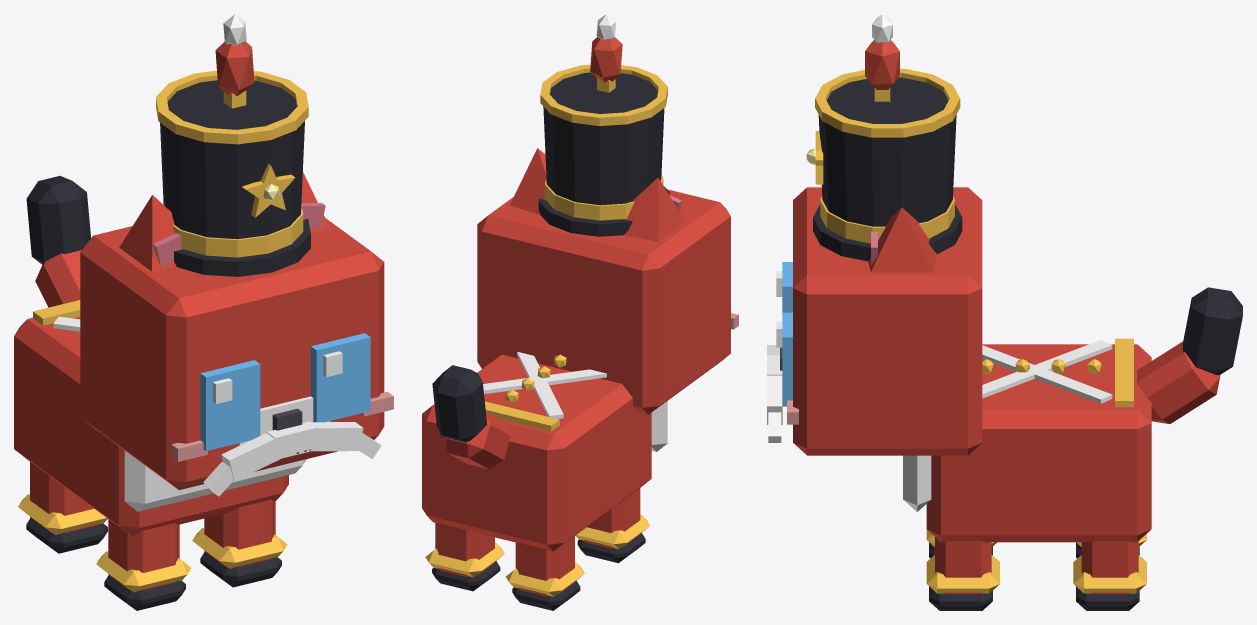
File: CatCafe_Cat_Nutcracker.glb
The picture shows the model from 3 angles, left to right: view 1: azimuth 30°, elevation 25°; view 2: azimuth 150°, elevation 25°; view 3: azimuth 270°, elevation 25°; orthographic projection. The views are drawn at different scales.
Visible parts, largest first — view 1: CatCafe_Cat_Nutcracker_Head, CatCafe_Cat_Nutcracker_Prop, CatCafe_Cat_Nutcracker_Body, CatCafe_Cat_Nutcracker_Tail, CatCafe_Cat_Nutcracker_LegF2, CatCafe_Cat_Nutcracker_LegF1, CatCafe_Cat_Nutcracker_Eye2, CatCafe_Cat_Nutcracker_Eye1, CatCafe_Cat_Nutcracker_LegB2, CatCafe_Cat_Nutcracker_EarR, CatCafe_Cat_Nutcracker_Badge_Glow, CatCafe_Cat_Nutcracker_Prop2 (+1 smaller); view 2: CatCafe_Cat_Nutcracker_Head, CatCafe_Cat_Nutcracker_Body, CatCafe_Cat_Nutcracker_Prop, CatCafe_Cat_Nutcracker_Tail, CatCafe_Cat_Nutcracker_LegB2, CatCafe_Cat_Nutcracker_LegB1, CatCafe_Cat_Nutcracker_Prop2, CatCafe_Cat_Nutcracker_LegF2, CatCafe_Cat_Nutcracker_EarR, CatCafe_Cat_Nutcracker_EarL; view 3: CatCafe_Cat_Nutcracker_Head, CatCafe_Cat_Nutcracker_Body, CatCafe_Cat_Nutcracker_Prop, CatCafe_Cat_Nutcracker_Tail, CatCafe_Cat_Nutcracker_Prop2, CatCafe_Cat_Nutcracker_LegF1, CatCafe_Cat_Nutcracker_LegB1, CatCafe_Cat_Nutcracker_EarL, CatCafe_Cat_Nutcracker_Eye1, CatCafe_Cat_Nutcracker_Eye2.
Boxes of the visible parts, x1=… form: CatCafe_Cat_Nutcracker_Head: x1=80, y1=218, x2=393, y2=489; CatCafe_Cat_Nutcracker_Prop: x1=156, y1=14, x2=381, y2=496; CatCafe_Cat_Nutcracker_Body: x1=14, y1=316, x2=306, y2=535; CatCafe_Cat_Nutcracker_Tail: x1=26, y1=176, x2=90, y2=307; CatCafe_Cat_Nutcracker_LegF2: x1=96, y1=519, x2=191, y2=610; CatCafe_Cat_Nutcracker_LegF1: x1=192, y1=499, x2=287, y2=587; CatCafe_Cat_Nutcracker_Eye2: x1=200, y1=360, x2=260, y2=450; CatCafe_Cat_Nutcracker_Eye1: x1=311, y1=333, x2=370, y2=422; CatCafe_Cat_Nutcracker_LegB2: x1=18, y1=461, x2=107, y2=553; CatCafe_Cat_Nutcracker_EarR: x1=119, y1=195, x2=182, y2=271; CatCafe_Cat_Nutcracker_Badge_Glow: x1=242, y1=163, x2=295, y2=217; CatCafe_Cat_Nutcracker_Prop2: x1=33, y1=300, x2=80, y2=331; CatCafe_Cat_Nutcracker_Head: x1=477, y1=189, x2=738, y2=414; CatCafe_Cat_Nutcracker_Body: x1=422, y1=354, x2=667, y2=551; CatCafe_Cat_Nutcracker_Prop: x1=538, y1=14, x2=669, y2=236; CatCafe_Cat_Nutcracker_Tail: x1=432, y1=365, x2=510, y2=469; CatCafe_Cat_Nutcracker_LegB2: x1=505, y1=536, x2=584, y2=610; CatCafe_Cat_Nutcracker_LegB1: x1=425, y1=523, x2=504, y2=591; CatCafe_Cat_Nutcracker_Prop2: x1=483, y1=351, x2=606, y2=431; CatCafe_Cat_Nutcracker_LegF2: x1=575, y1=488, x2=650, y2=563; CatCafe_Cat_Nutcracker_EarR: x1=623, y1=177, x2=685, y2=241; CatCafe_Cat_Nutcracker_EarL: x1=510, y1=148, x2=546, y2=214; CatCafe_Cat_Nutcracker_Head: x1=780, y1=187, x2=982, y2=455; CatCafe_Cat_Nutcracker_Body: x1=903, y1=344, x2=1151, y2=542; CatCafe_Cat_Nutcracker_Prop: x1=767, y1=14, x2=962, y2=442; CatCafe_Cat_Nutcracker_Tail: x1=1137, y1=287, x2=1242, y2=423; CatCafe_Cat_Nutcracker_Prop2: x1=982, y1=338, x2=1133, y2=407; CatCafe_Cat_Nutcracker_LegF1: x1=926, y1=537, x2=999, y2=610; CatCafe_Cat_Nutcracker_LegB1: x1=1073, y1=541, x2=1146, y2=610; CatCafe_Cat_Nutcracker_EarL: x1=868, y1=207, x2=937, y2=272; CatCafe_Cat_Nutcracker_Eye1: x1=776, y1=312, x2=792, y2=406; CatCafe_Cat_Nutcracker_Eye2: x1=776, y1=262, x2=792, y2=312.
Size of the model in its own units: 1 by 2.64 by 2.01.
1 material, 1 textured.
